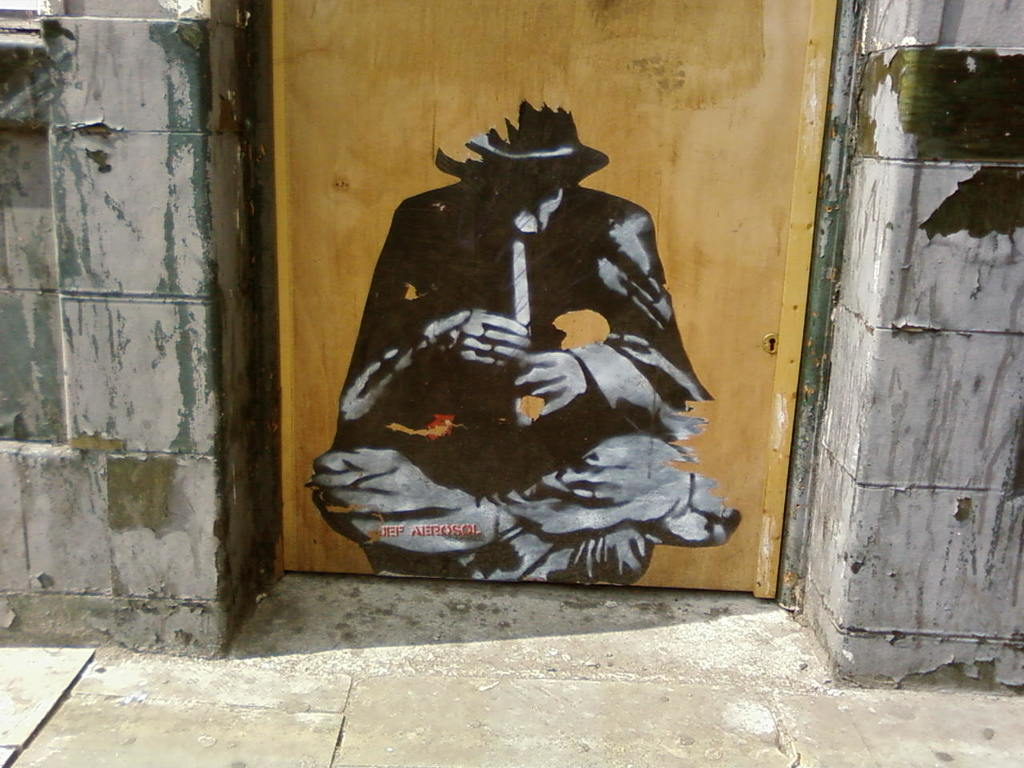door: (265, 19, 777, 593)
